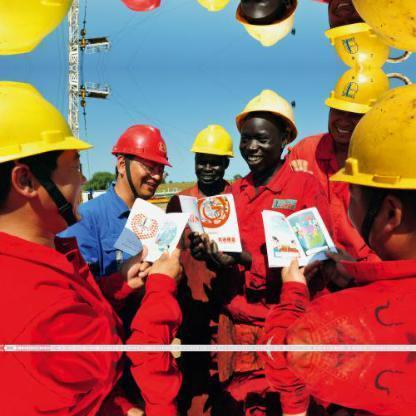helmet: (319, 82, 416, 198), (0, 76, 98, 178), (326, 65, 401, 124), (229, 89, 307, 142), (108, 117, 173, 177), (190, 118, 237, 163)
